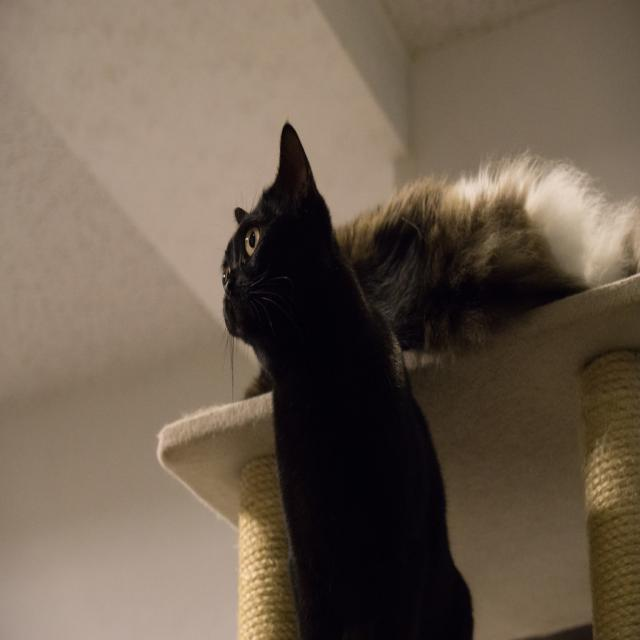Cat: (208, 114, 475, 638), (239, 145, 639, 399)
